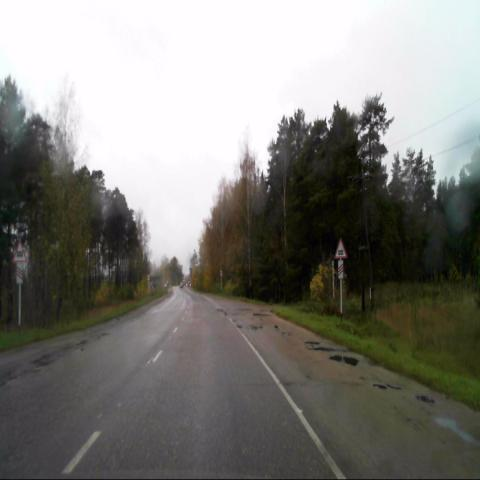1_1: (334, 237, 348, 259)
